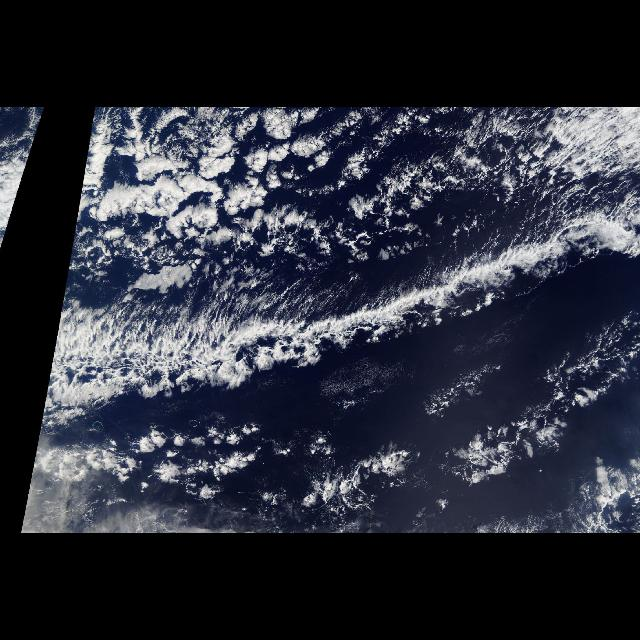Fish: (162, 262, 634, 478)
Flower: (122, 110, 454, 258)
